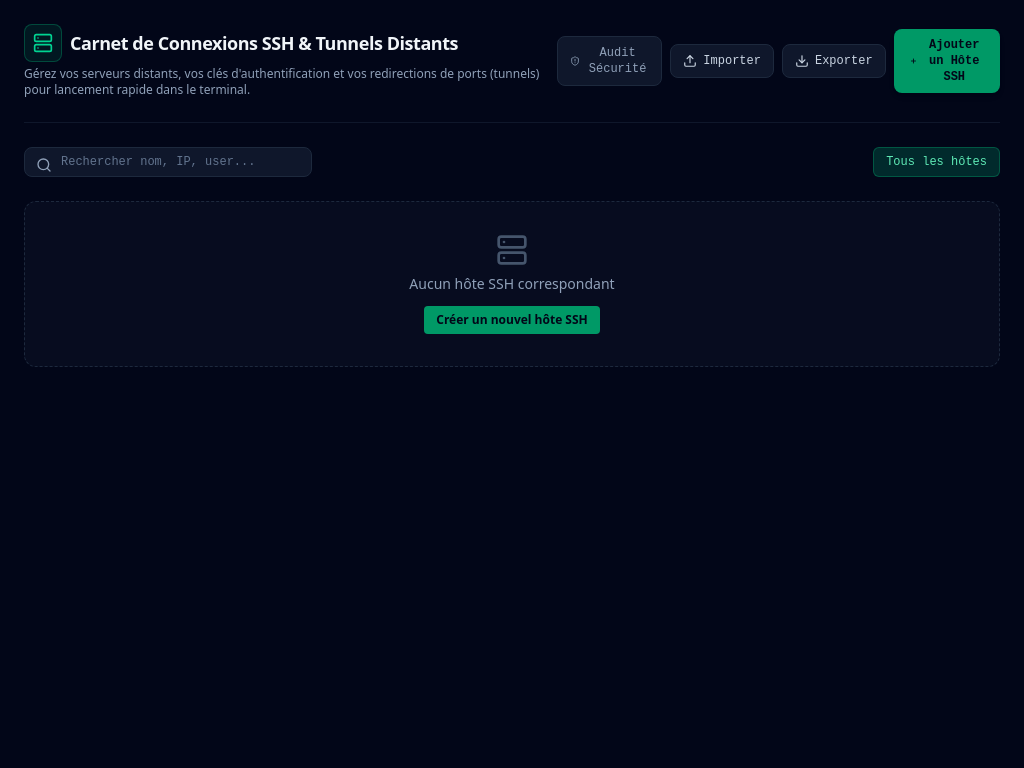
Test: SshHostManager Component › opens create host modal and adds a new host
The image size is (1024, 768).
Click the button "Ajouter un Hôte SSH". click: [947, 61]
box: [894,29,1000,93]
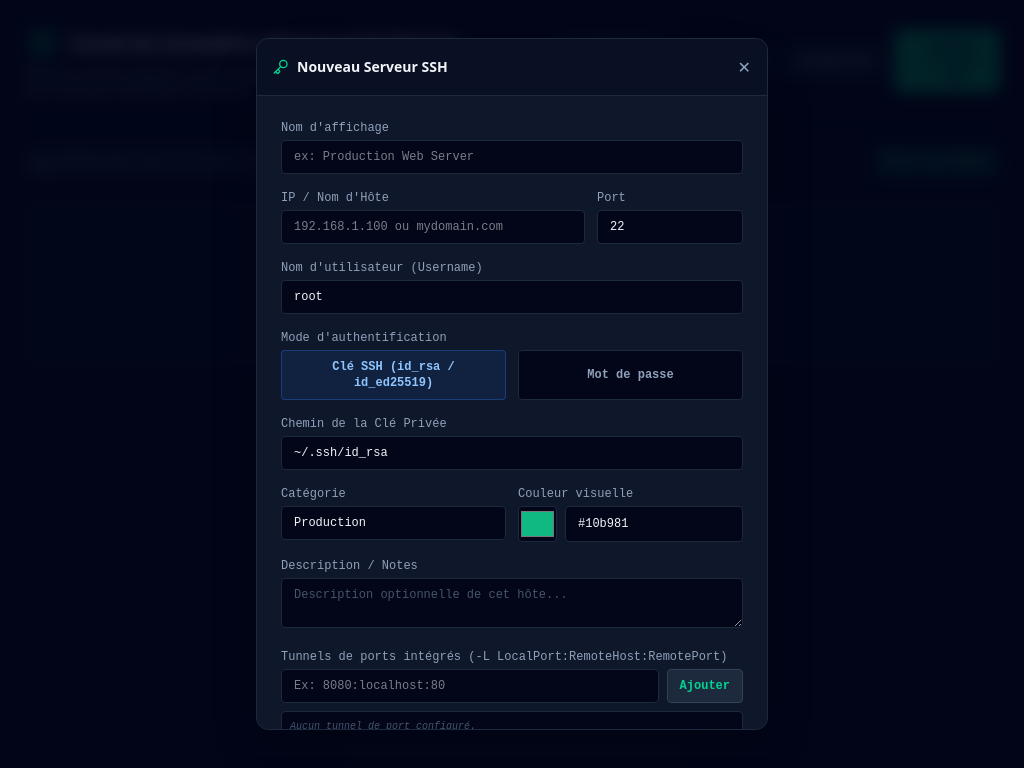
Now the heading "Nouveau Serveur SSH" is shown, box [273,57,448,77]
Type "Test Server AWS" into the field with placeholder "ex: Production Web Server". click: [512, 157]
box: [281,140,743,174]
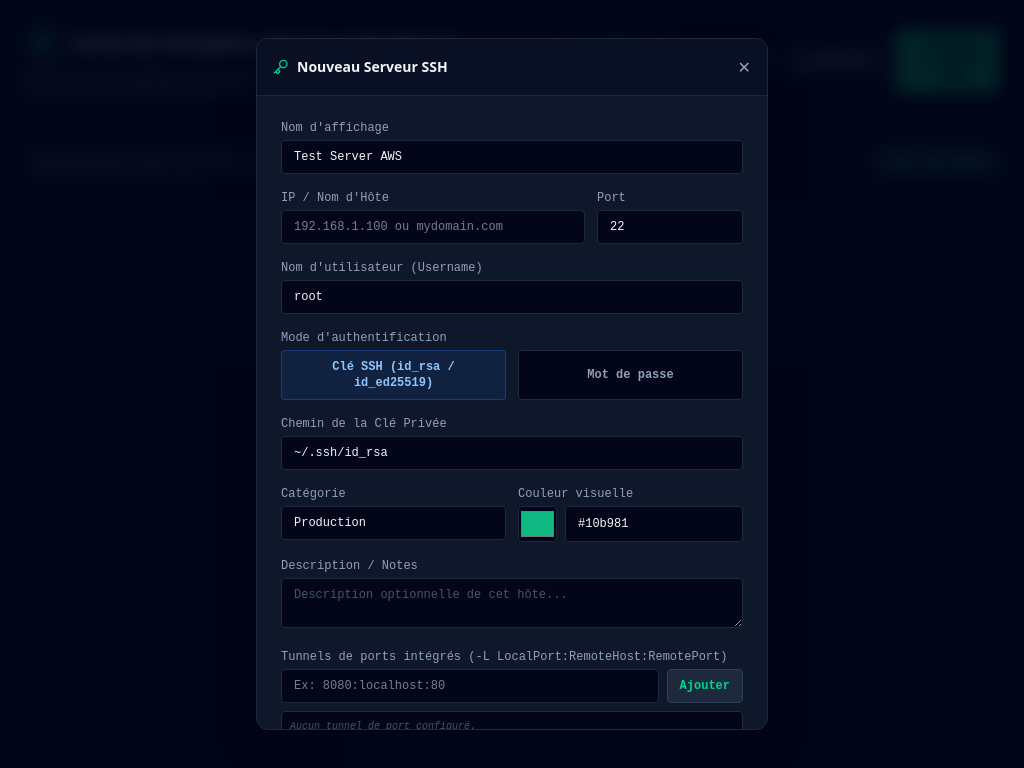
Type "54.210.10.5" into the field with placeholder "192.168.1.100 ou mydomain.com". click: [433, 227]
box: [281,210,585,244]
(page scrolled)
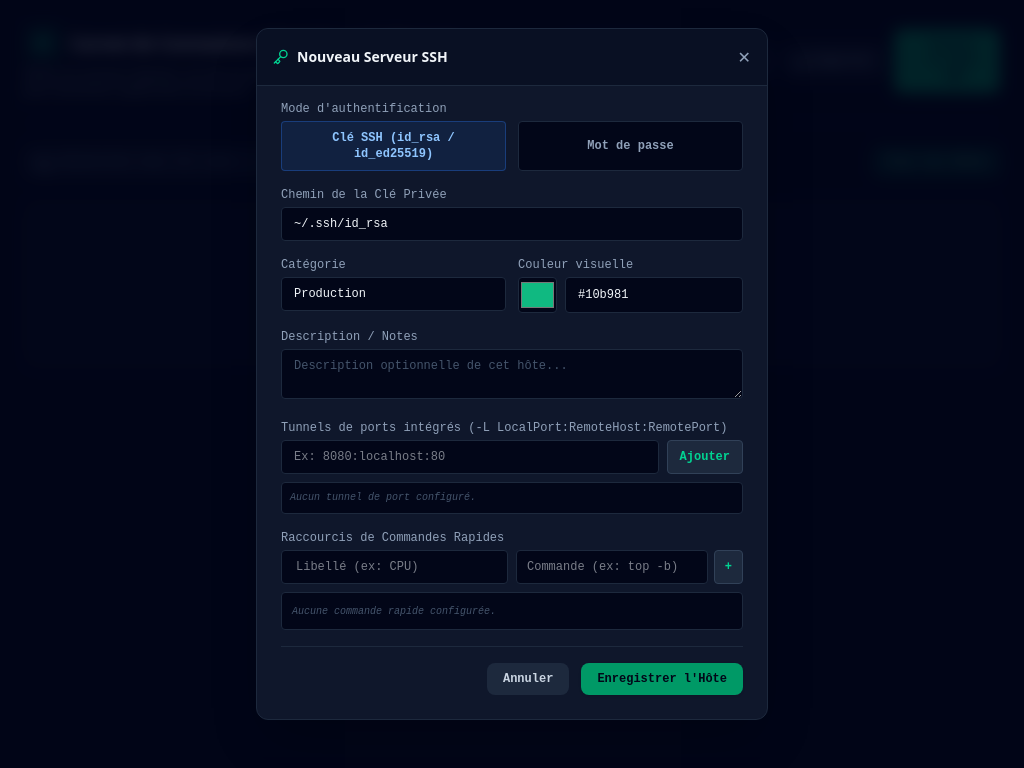
Click the button "Enregistrer l'Hôte". click: [662, 679]
box: [581,663,743,695]
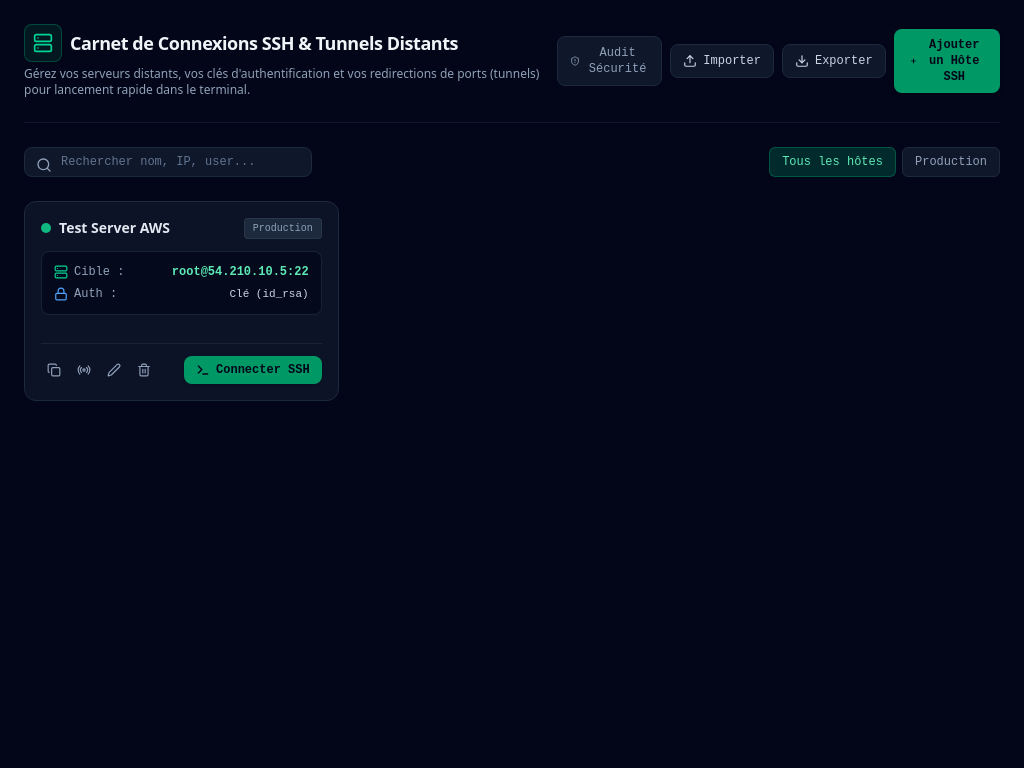
Now the heading "Test Server AWS" is shown, box [59,218,170,238]
